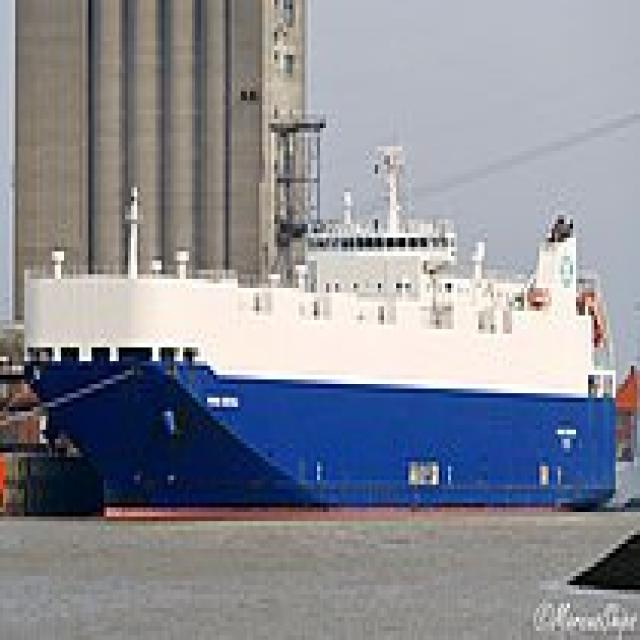Carrier: (18, 137, 619, 521)
